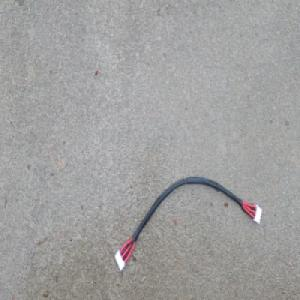Wire: (114, 173, 263, 272)
